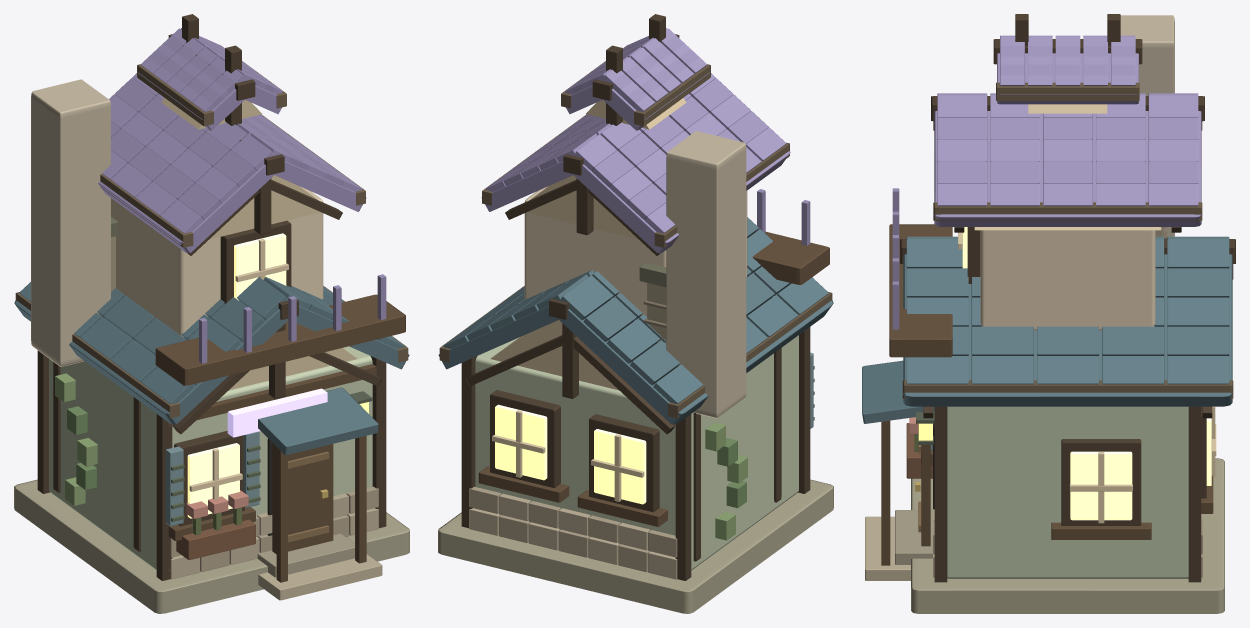
The model's file is workshop-3-2.glb.
The picture shows the model from 3 angles, left to right: view 1: azimuth 30°, elevation 25°; view 2: azimuth 150°, elevation 25°; view 3: azimuth 270°, elevation 25°; orthographic projection. The views are drawn at different scales.
Parts seen in each view (by area): view 1: workshop-2-3, door-hinge; view 2: workshop-2-3; view 3: workshop-2-3, door-hinge.
Part boxes in pixels (x1,y1,x2,y2): workshop-2-3: [14, 14, 409, 613]; door-hinge: [272, 443, 333, 554]; workshop-2-3: [438, 14, 833, 613]; workshop-2-3: [862, 14, 1235, 613]; door-hinge: [915, 424, 930, 546].
Bounding box in the file's own units: 1.91 × 3.51 × 2.24.
